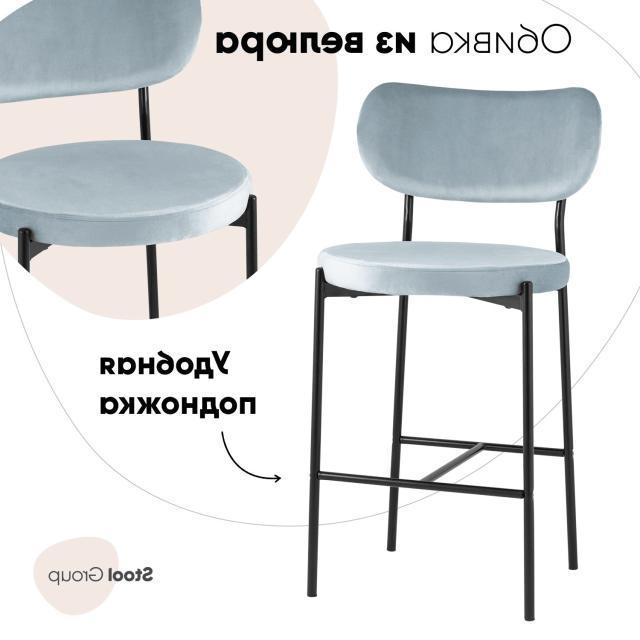chair: (298, 76, 602, 622), (302, 73, 596, 294), (0, 0, 234, 222)
